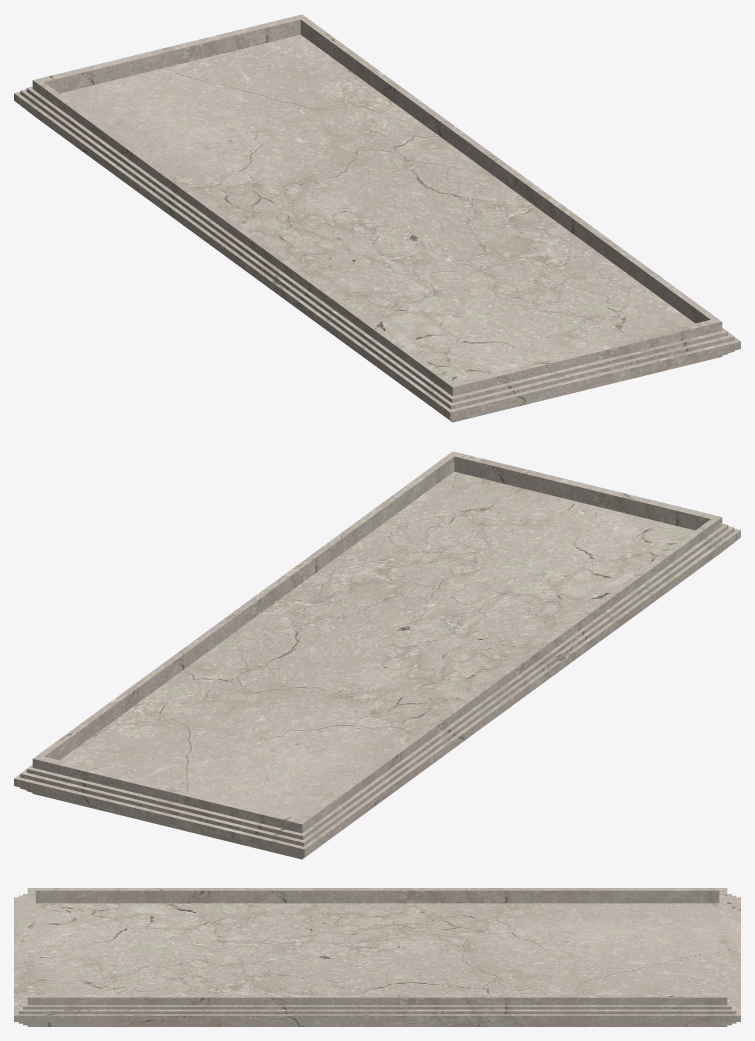
Rendered from marble_tile_203.fbx.
The picture shows the model from 3 angles, top to bottom: view 1: azimuth 30°, elevation 25°; view 2: azimuth 150°, elevation 25°; view 3: azimuth 270°, elevation 25°; orthographic projection. The views are drawn at different scales.
Visible parts, largest first — view 1: marble_tile_203; view 2: marble_tile_203; view 3: marble_tile_203.
Part boxes in pixels (x1=…): marble_tile_203: x1=14, y1=14, x2=740, y2=422; marble_tile_203: x1=14, y1=451, x2=740, y2=859; marble_tile_203: x1=14, y1=888, x2=740, y2=1026.
Bounding box in the file's own units: 163 × 18.84 × 424.
